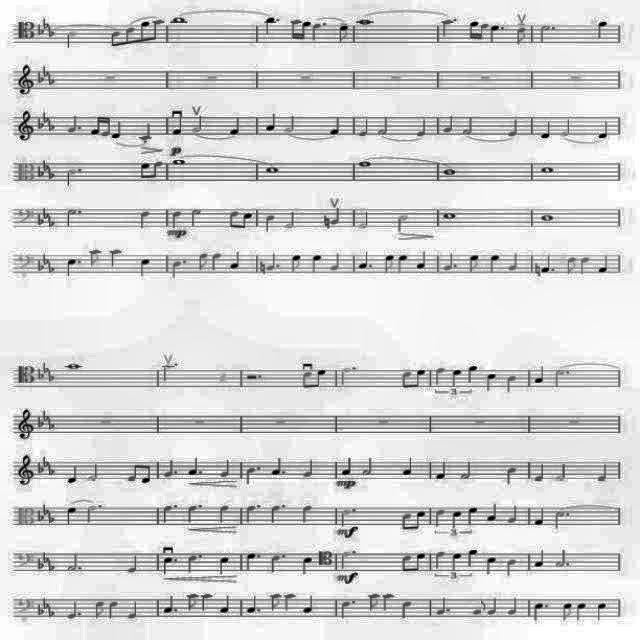Bass-clef: (12, 548, 36, 580), (14, 597, 36, 621), (16, 206, 34, 234), (16, 252, 34, 276)
Eighth-note: (462, 249, 482, 279), (140, 460, 156, 496), (314, 362, 330, 398), (334, 19, 352, 49), (288, 245, 304, 278), (152, 158, 168, 190), (556, 598, 572, 628), (123, 461, 139, 491), (380, 250, 396, 278), (398, 366, 414, 394), (396, 506, 412, 534), (196, 251, 210, 281), (149, 15, 163, 45), (416, 362, 428, 396), (410, 506, 426, 530), (470, 597, 486, 621), (268, 594, 284, 618), (122, 20, 134, 52), (137, 161, 151, 187), (565, 256, 579, 282), (88, 245, 104, 267), (108, 25, 124, 47), (516, 24, 530, 48), (414, 550, 426, 578), (89, 602, 103, 626), (139, 18, 151, 46), (242, 210, 256, 233), (226, 207, 238, 231), (368, 592, 380, 616), (300, 370, 314, 390), (400, 552, 412, 572)
Full-note: (168, 11, 192, 33), (66, 358, 82, 378), (442, 210, 462, 226), (358, 16, 378, 32), (538, 212, 558, 226), (172, 155, 188, 169), (358, 158, 374, 172), (540, 164, 556, 178), (265, 162, 279, 178), (442, 166, 456, 178)
Full-rest: (564, 412, 592, 432), (297, 70, 321, 92), (468, 413, 492, 433), (94, 412, 118, 432), (372, 414, 398, 431), (476, 68, 500, 86), (201, 72, 225, 86), (386, 70, 410, 84), (273, 416, 293, 432), (567, 74, 585, 90), (188, 416, 210, 428), (100, 72, 118, 84)
Half-note: (188, 204, 208, 236), (392, 212, 412, 240), (462, 116, 480, 144), (282, 208, 302, 232), (356, 210, 372, 238), (551, 510, 569, 534), (341, 364, 355, 394), (64, 29, 80, 55), (536, 23, 552, 49), (460, 458, 476, 484), (89, 465, 107, 487), (64, 160, 78, 188), (84, 503, 98, 531), (359, 456, 376, 479), (64, 202, 76, 234), (336, 548, 352, 572), (65, 555, 79, 581), (556, 546, 568, 576), (551, 464, 567, 484), (162, 362, 176, 384), (554, 366, 566, 390), (191, 117, 203, 137), (286, 116, 298, 136), (376, 120, 388, 140), (563, 120, 573, 144), (340, 508, 350, 524)
Half-rest: (246, 367, 260, 393)
Quarter-note: (136, 252, 156, 288), (578, 243, 594, 284), (326, 250, 346, 282), (530, 364, 550, 396), (484, 250, 504, 282), (310, 246, 328, 280), (464, 360, 481, 396), (466, 502, 486, 532), (484, 550, 500, 586), (262, 251, 282, 277), (269, 554, 287, 582), (504, 116, 524, 140), (396, 250, 412, 280), (503, 365, 519, 395), (243, 591, 259, 621), (160, 503, 176, 533), (440, 15, 456, 45), (339, 453, 356, 481), (434, 548, 448, 582), (484, 593, 501, 621), (62, 463, 80, 489), (540, 247, 552, 285), (139, 202, 155, 230), (433, 456, 449, 484), (530, 502, 546, 530), (186, 552, 202, 580), (573, 596, 587, 628), (218, 503, 234, 531), (595, 454, 609, 486), (598, 254, 614, 282), (108, 244, 124, 272), (300, 458, 318, 482), (260, 14, 276, 41), (416, 249, 430, 279), (210, 250, 224, 280), (311, 19, 325, 49), (168, 257, 184, 283), (484, 369, 500, 395), (400, 455, 416, 481), (466, 547, 482, 573), (529, 463, 545, 489), (302, 593, 318, 619), (300, 553, 316, 579), (61, 506, 78, 530), (230, 110, 244, 138), (125, 554, 139, 582), (226, 252, 242, 276), (486, 498, 498, 530), (504, 464, 520, 488), (402, 596, 414, 628), (184, 506, 200, 530), (592, 14, 608, 38), (112, 115, 124, 146), (220, 456, 236, 479), (263, 108, 277, 134), (163, 590, 177, 616), (199, 588, 213, 614), (338, 598, 352, 624), (489, 20, 501, 50), (358, 248, 370, 278), (507, 501, 519, 531), (508, 247, 520, 277), (218, 555, 234, 577), (163, 452, 174, 484), (434, 504, 444, 538), (140, 115, 152, 143), (358, 114, 370, 142), (263, 209, 277, 233), (452, 549, 464, 577), (536, 544, 548, 572), (108, 598, 120, 626), (128, 594, 140, 622), (284, 592, 296, 620), (436, 591, 448, 619), (532, 600, 544, 628), (596, 597, 608, 625), (268, 503, 282, 527), (63, 251, 77, 275), (598, 114, 610, 142), (442, 109, 453, 139), (445, 247, 455, 280), (328, 115, 340, 142), (452, 502, 462, 534), (268, 460, 284, 480), (450, 369, 462, 395), (506, 555, 518, 581), (245, 504, 258, 528), (67, 600, 81, 622), (245, 464, 259, 486), (221, 591, 231, 621), (416, 114, 428, 138), (540, 119, 552, 143), (384, 590, 396, 614), (508, 596, 520, 620), (245, 551, 258, 573), (66, 114, 80, 134), (172, 115, 185, 136), (432, 365, 444, 387), (171, 207, 181, 231), (330, 209, 342, 229), (301, 504, 313, 524), (190, 456, 198, 484), (163, 556, 173, 578)
Quarter-rest: (212, 368, 228, 390)
Sixteenth-note: (478, 16, 490, 52), (90, 113, 102, 147), (290, 17, 302, 47), (468, 19, 479, 49), (101, 113, 111, 143), (301, 17, 311, 47)
Treble-clef: (10, 406, 34, 446), (15, 111, 37, 145), (14, 63, 36, 97), (14, 458, 34, 492)
